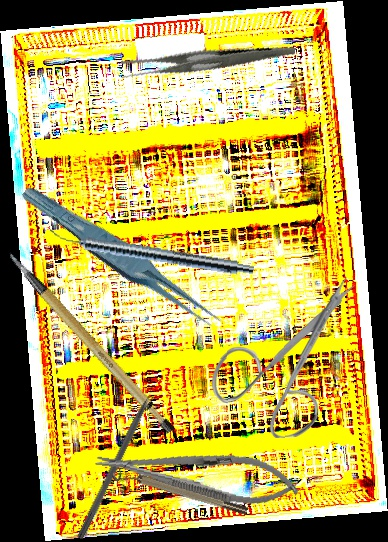Dressing Forceps: (118, 13, 296, 112)
Fixation Ring: (111, 462, 249, 523)
Handpiece: (47, 226, 256, 279)
Iris Scissors: (209, 277, 360, 439)
Needle Holder: (92, 434, 304, 513)
Pusher: (76, 374, 164, 542)
Scalpel Handle: (6, 229, 178, 453)
Tissue Forceps: (19, 171, 226, 347)
